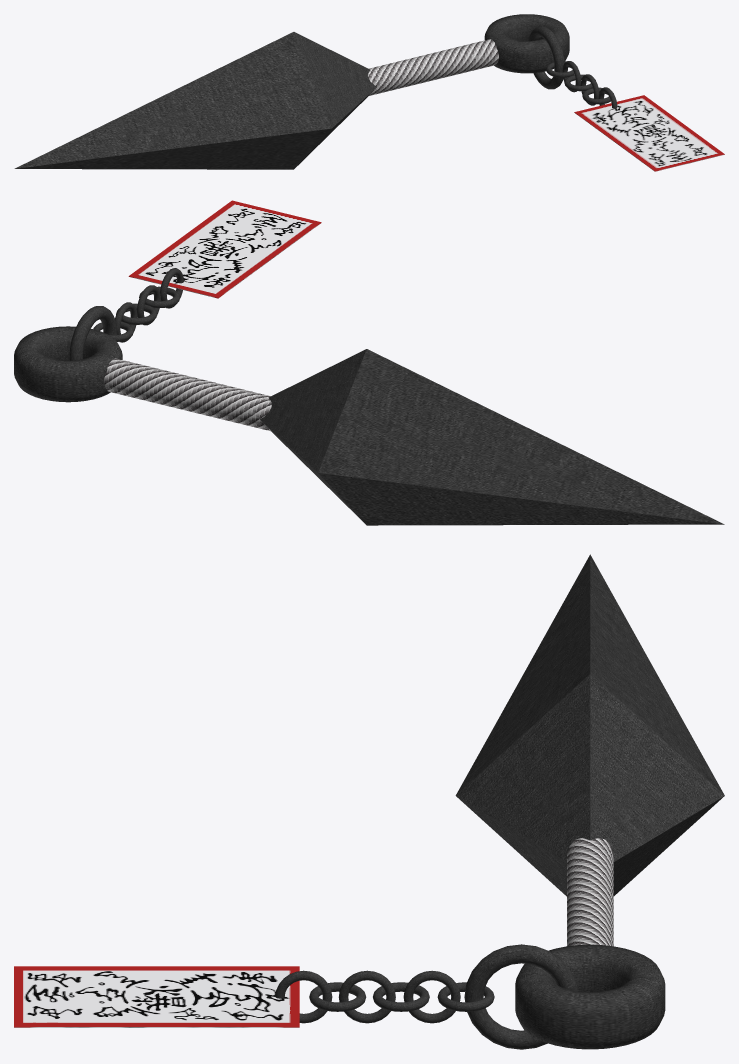
Rendered from Kunai (w' Paperbomb).FBX.
3 views of the same model, one above another, from view 1: azimuth 30°, elevation 25°; view 2: azimuth 150°, elevation 25°; view 3: azimuth 270°, elevation 25° (orthographic). The views are drawn at different scales.
Parts seen in each view (by area): view 1: Pyramid001, Box001, Pyramid002, Cylinder001, Tube001, Torus001; view 2: Pyramid001, Box001, Tube001, Pyramid002, Cylinder001, Torus001; view 3: Pyramid002, Box001, Pyramid001, Tube001, Cylinder001, Torus001, Chain (2), Chain (2)001, Chain (2)002, Chain (1)001, Chain (1)002, Chain (1).
Part boxes in pixels (left/top/right/bottom): Pyramid001: left=14, top=32, right=331, bottom=169; Box001: left=574, top=95, right=724, bottom=171; Pyramid002: left=294, top=32, right=376, bottom=165; Cylinder001: left=368, top=39, right=498, bottom=95; Tube001: left=484, top=14, right=569, bottom=73; Torus001: left=528, top=26, right=564, bottom=89; Pyramid001: left=318, top=349, right=724, bottom=525; Box001: left=128, top=200, right=321, bottom=298; Tube001: left=14, top=326, right=122, bottom=402; Pyramid002: left=260, top=349, right=366, bottom=524; Cylinder001: left=104, top=358, right=271, bottom=431; Torus001: left=69, top=306, right=117, bottom=360; Pyramid002: left=456, top=674, right=724, bottom=896; Box001: left=14, top=966, right=299, bottom=1027; Pyramid001: left=456, top=554, right=724, bottom=794; Tube001: left=515, top=944, right=665, bottom=1049; Cylinder001: left=567, top=838, right=613, bottom=946; Torus001: left=464, top=944, right=577, bottom=1049; Chain (2): left=403, top=970, right=460, bottom=1023; Chain (2)001: left=338, top=970, right=395, bottom=1023; Chain (2)002: left=275, top=970, right=332, bottom=1023; Chain (1)001: left=373, top=982, right=429, bottom=1011; Chain (1)002: left=309, top=982, right=366, bottom=1011; Chain (1): left=437, top=982, right=494, bottom=1011.
Bounding box in the file's own units: 118 × 28.28 × 74.64.
